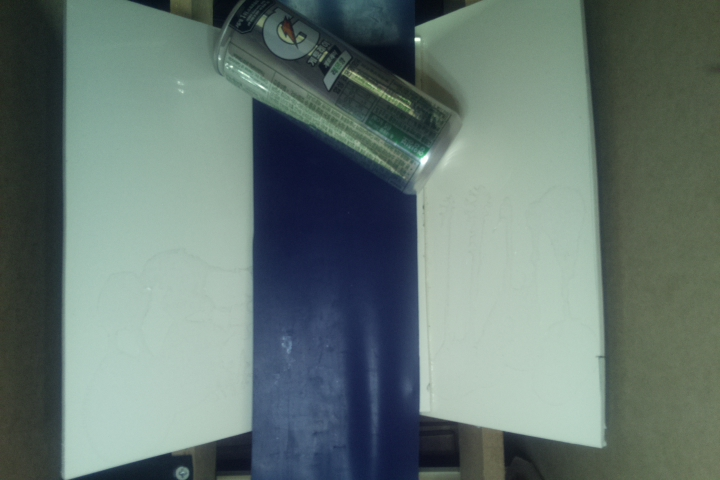can: (209, 1, 467, 196)
